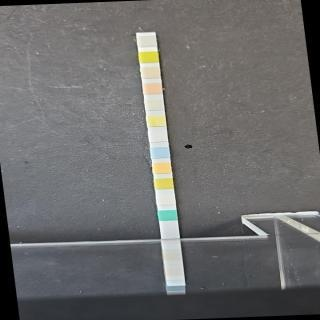mark: (152, 161, 170, 174), (154, 177, 173, 189), (156, 194, 174, 206), (151, 146, 169, 158), (149, 130, 167, 142), (142, 66, 160, 78), (140, 51, 158, 63), (138, 36, 156, 48), (146, 98, 163, 110), (144, 82, 160, 94), (158, 210, 176, 220), (148, 115, 164, 126)
